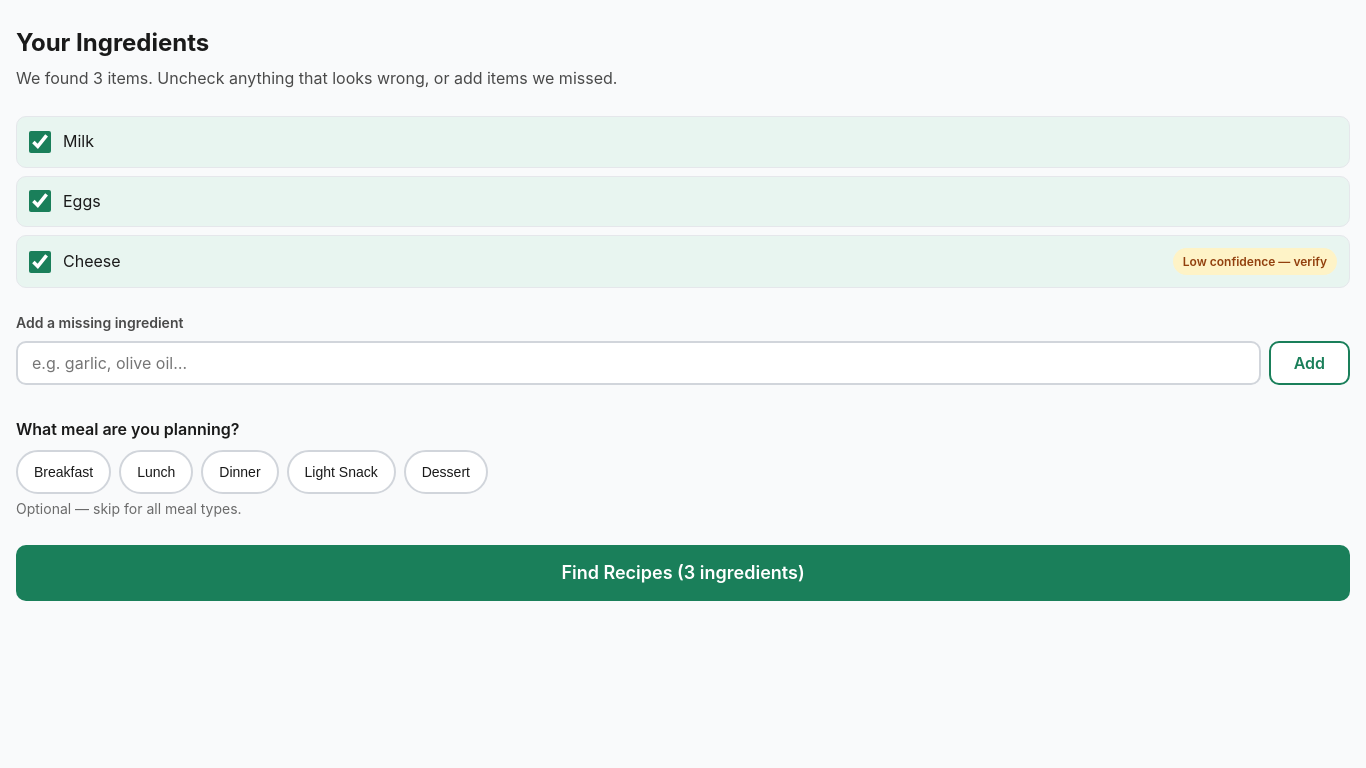
Scenario: IngredientReview › Find Recipes CTA is disabled when 0 ingredients are checked
The width and height of the screenshot is (1366, 768).
Click the checkbox labelled "Milk" at x=40, y=142, box [29,131,51,153]
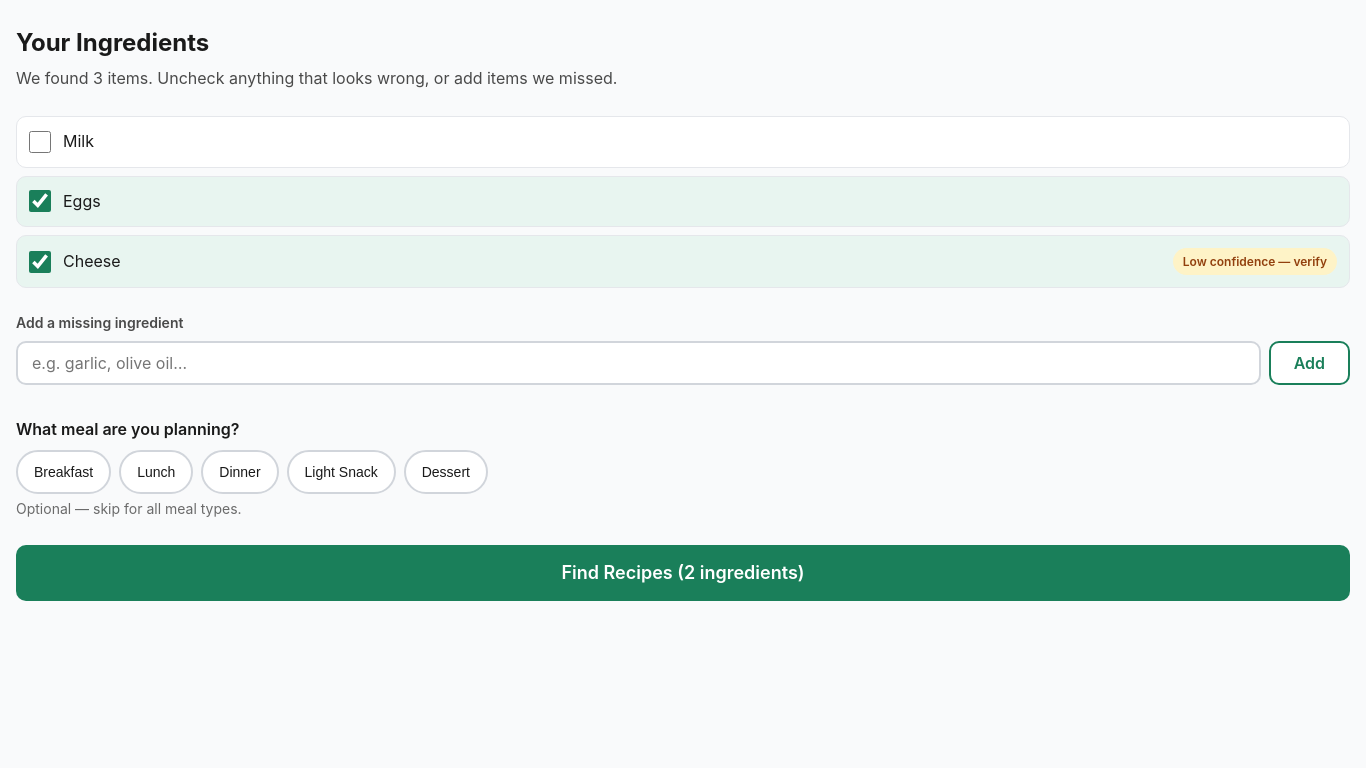
Click the checkbox labelled "Eggs" at x=40, y=201, box [29,190,51,212]
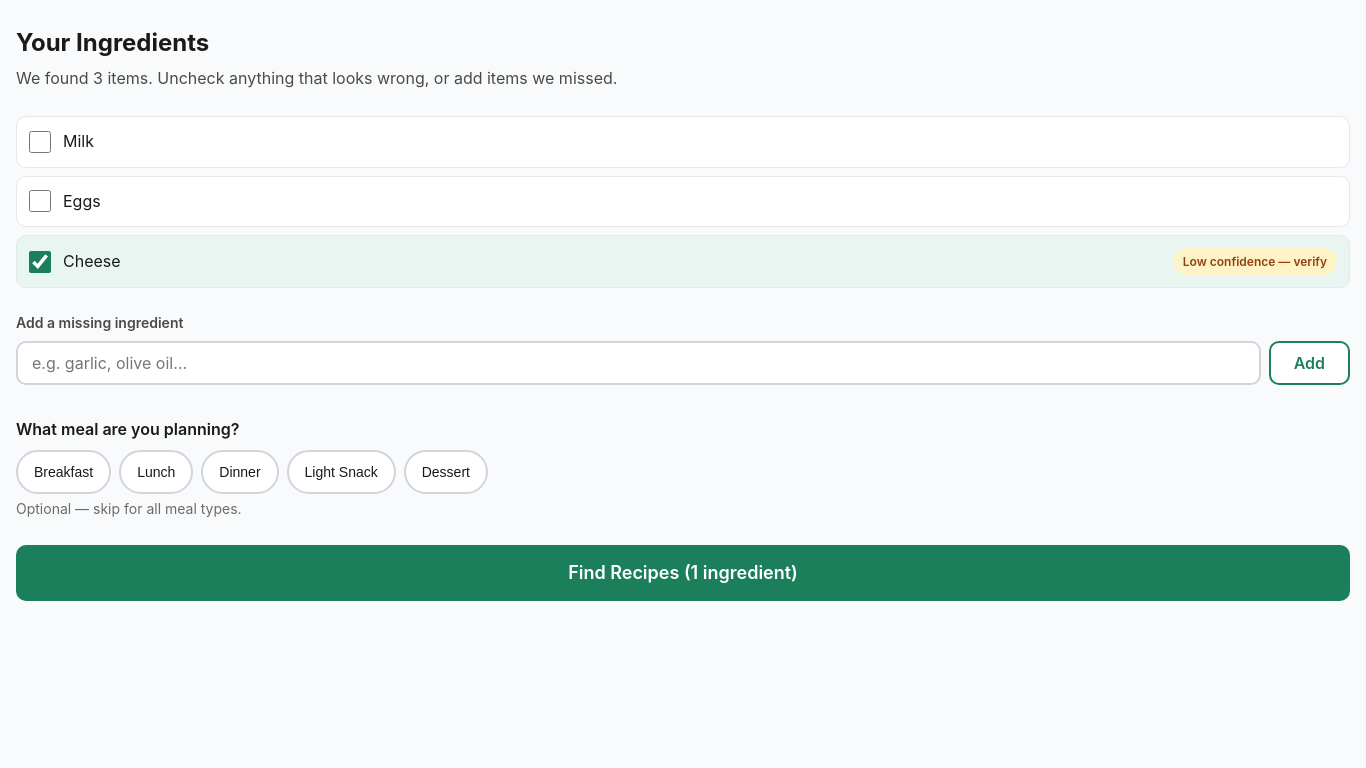
Click the checkbox labelled "Cheese Low confidence — verify" at x=40, y=262, box [29,251,51,273]
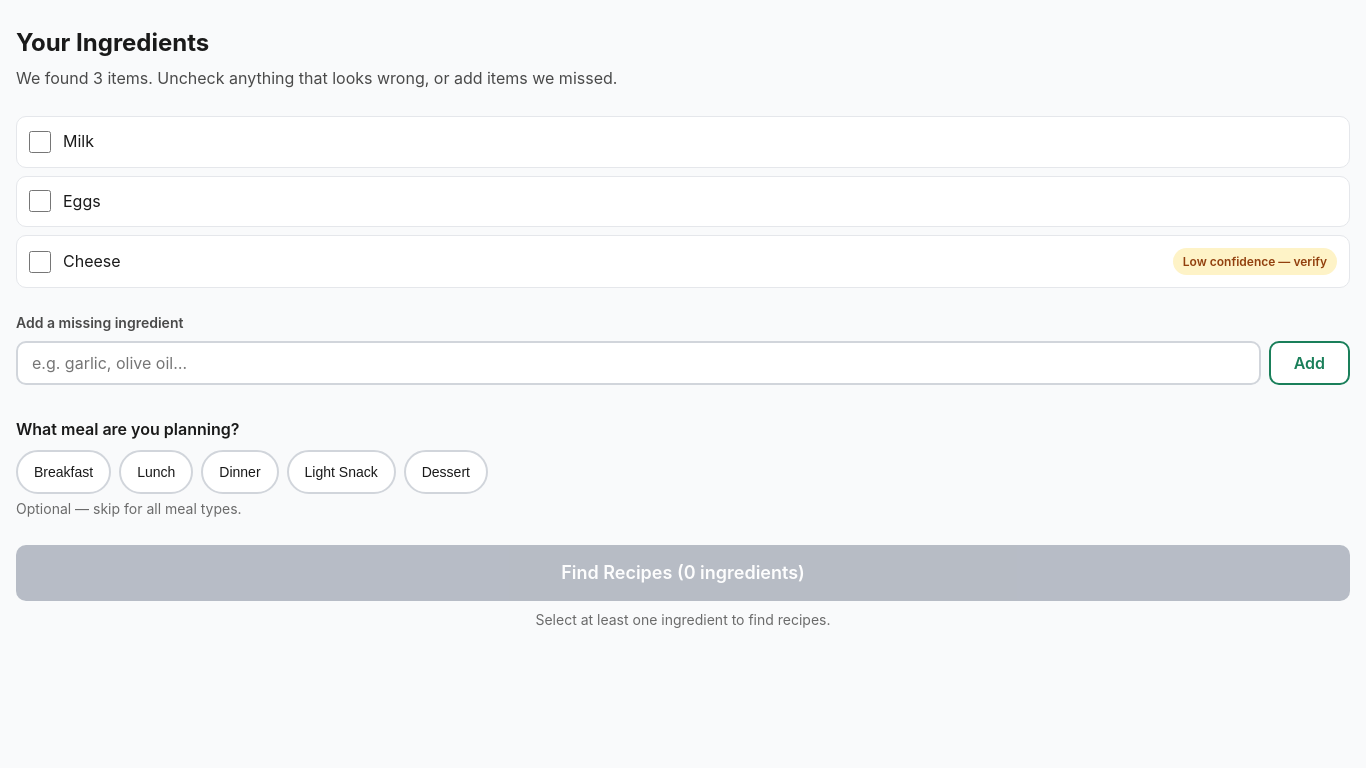
Expected: the button "Find Recipes (0 ingredients)" is disabled, [16,545,1350,601]
